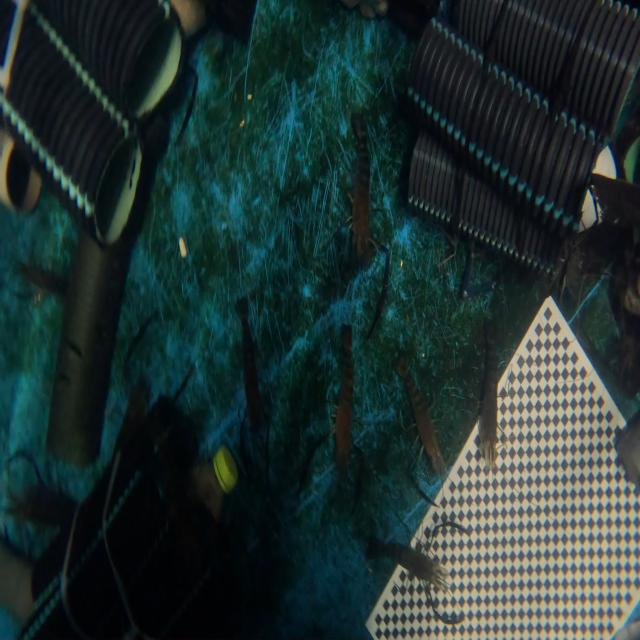prawn: (396, 359, 442, 472), (236, 297, 264, 434), (376, 543, 446, 590), (351, 113, 370, 264), (334, 325, 353, 470), (478, 329, 498, 464)
